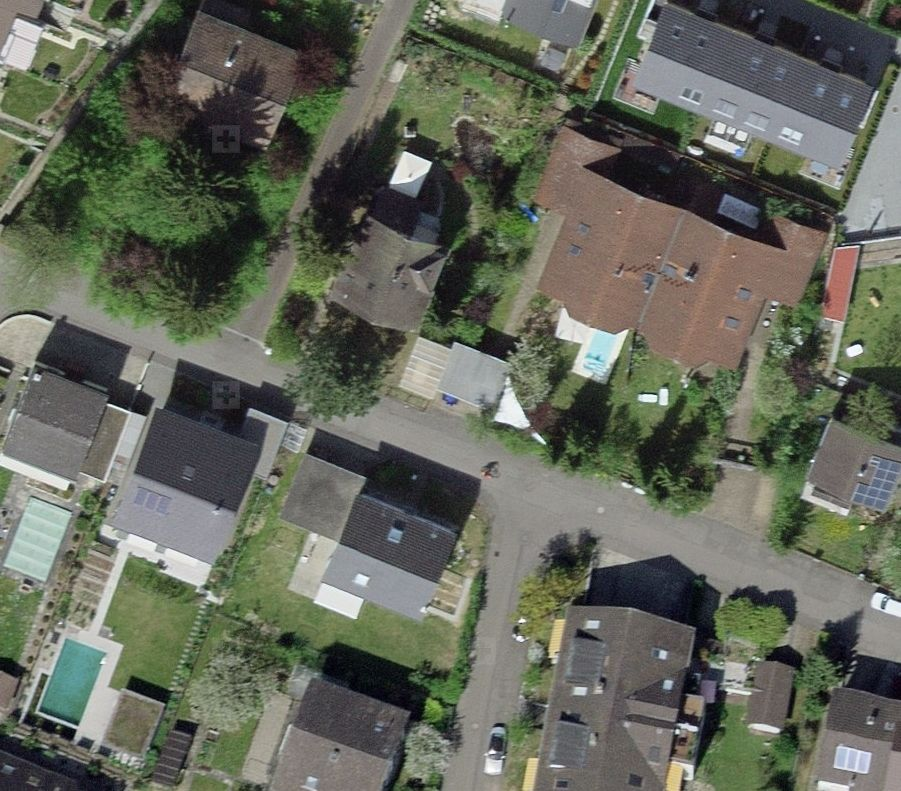solar: (849, 451, 901, 509), (124, 483, 179, 519)
